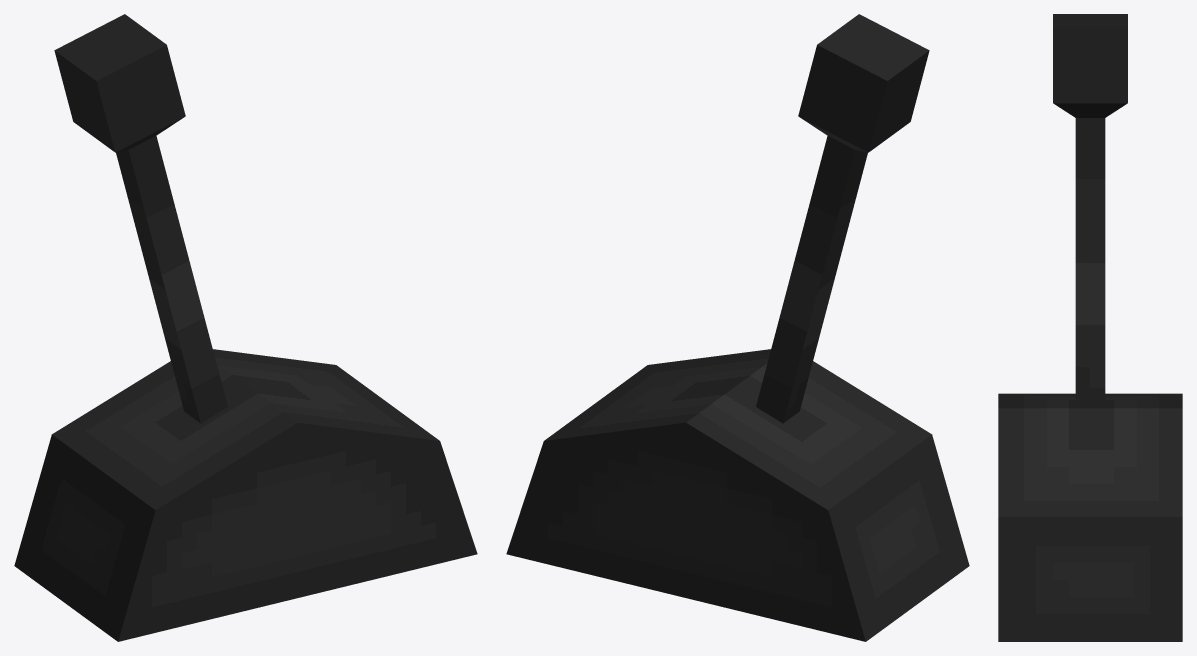
File: lever0006.obj
3 views of the same model, side by side, from view 1: azimuth 30°, elevation 25°; view 2: azimuth 150°, elevation 25°; view 3: azimuth 270°, elevation 25° (orthographic). The views are drawn at different scales.
Visible parts, largest first — view 1: Cube.018, Cube.019; view 2: Cube.018, Cube.019; view 3: Cube.018, Cube.019.
Part boxes in pixels (<box>): Cube.018: <box>14,349,477,641</box>; Cube.019: <box>54,14,227,423</box>; Cube.018: <box>506,349,969,641</box>; Cube.019: <box>756,14,929,423</box>; Cube.018: <box>998,393,1182,641</box>; Cube.019: <box>1053,14,1127,405</box>.
Size of the model in its own units: 32 by 47.91 by 16.
